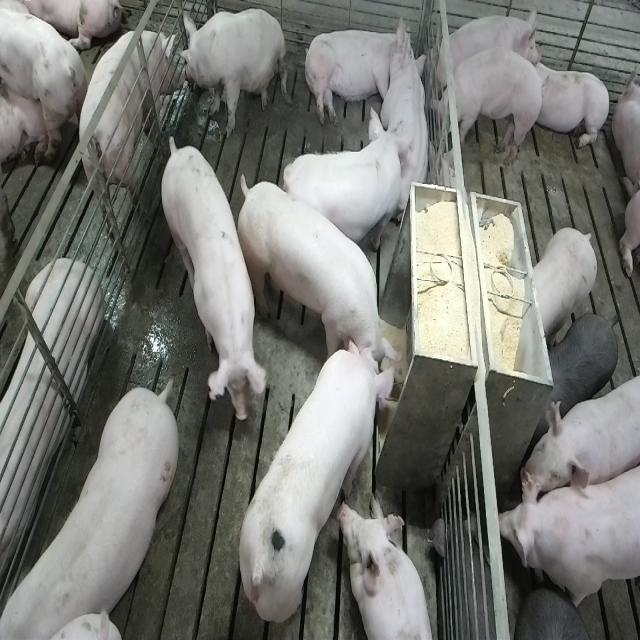Feeding: (236, 334, 400, 626), (232, 169, 399, 382)
Lateral_lying: (302, 13, 418, 128)
Sitting: (177, 7, 287, 138)
Standing: (5, 375, 184, 636), (157, 125, 266, 426), (498, 452, 638, 619), (76, 21, 179, 230), (280, 110, 406, 260), (521, 366, 638, 505), (432, 50, 545, 171), (0, 0, 82, 157), (545, 311, 619, 424), (530, 226, 598, 344), (514, 585, 606, 638)
Sternal_lying: (0, 260, 100, 601), (342, 496, 437, 640), (380, 43, 434, 213), (528, 52, 612, 153)
